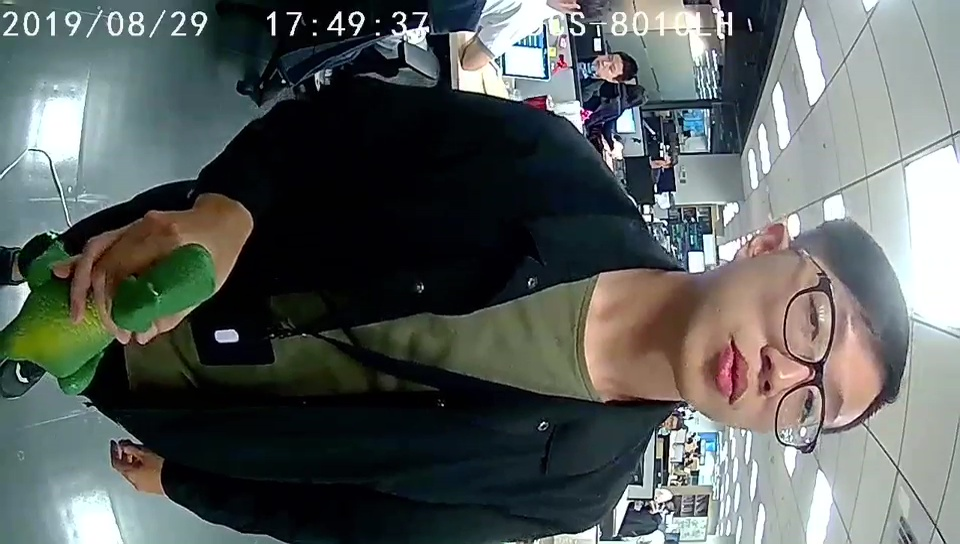rex: (9, 237, 218, 395)
